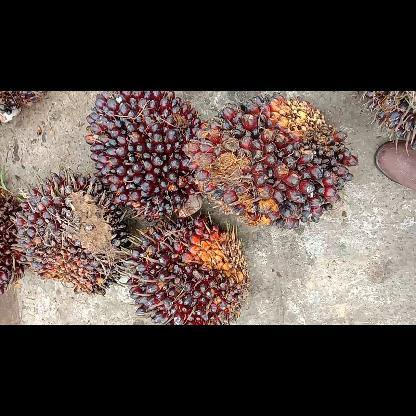Kurang masak: (181, 91, 359, 231), (82, 90, 206, 220), (10, 169, 132, 299), (117, 216, 251, 324)
